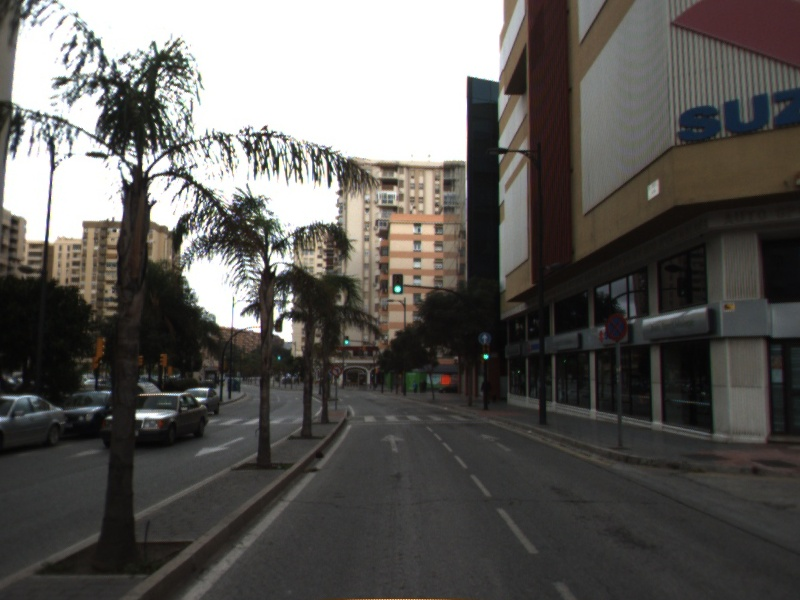STRAIGHT: (378, 431, 408, 456), (479, 432, 514, 453)
